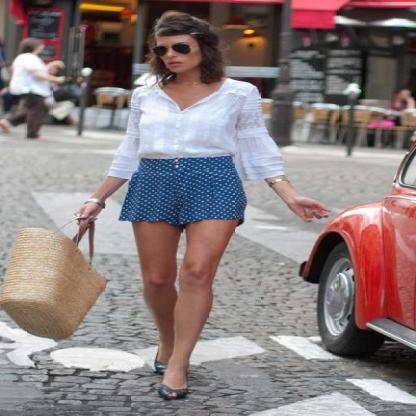bag: (0, 228, 109, 340)
shirt: (98, 78, 286, 182)
shoe: (162, 388, 198, 401)
shorts: (118, 156, 246, 390)
sunglass: (153, 43, 189, 68)
